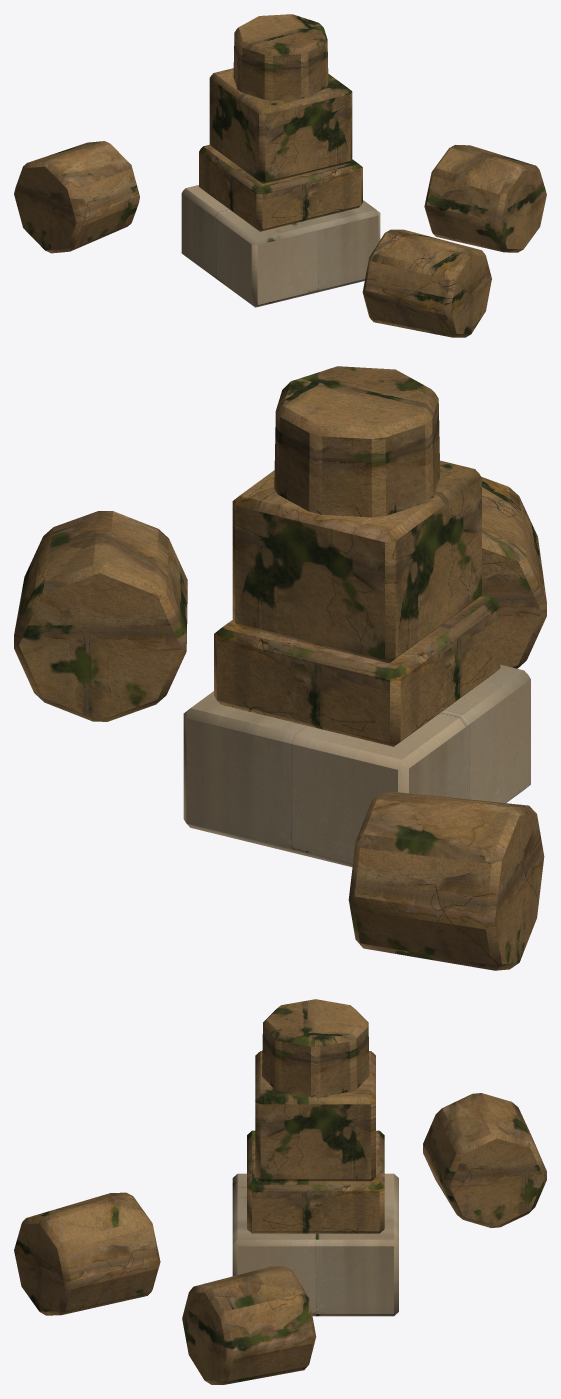
File: Pillar_Broken0.fbx
3 views of the same model, one above another, from view 1: azimuth 30°, elevation 25°; view 2: azimuth 150°, elevation 25°; view 3: azimuth 270°, elevation 25° (orthographic). The views are drawn at different scales.
Visible parts, largest first — view 1: Pillar_Broken0_LOD0; view 2: Pillar_Broken0_LOD0; view 3: Pillar_Broken0_LOD0.
Boxes of the visible parts, x1,y1,x2,y2 form: Pillar_Broken0_LOD0: [14, 14, 546, 337]; Pillar_Broken0_LOD0: [14, 366, 546, 970]; Pillar_Broken0_LOD0: [14, 999, 546, 1384].
Size of what is drawn, in the model's own units: 3.06 by 1.72 by 3.15.
